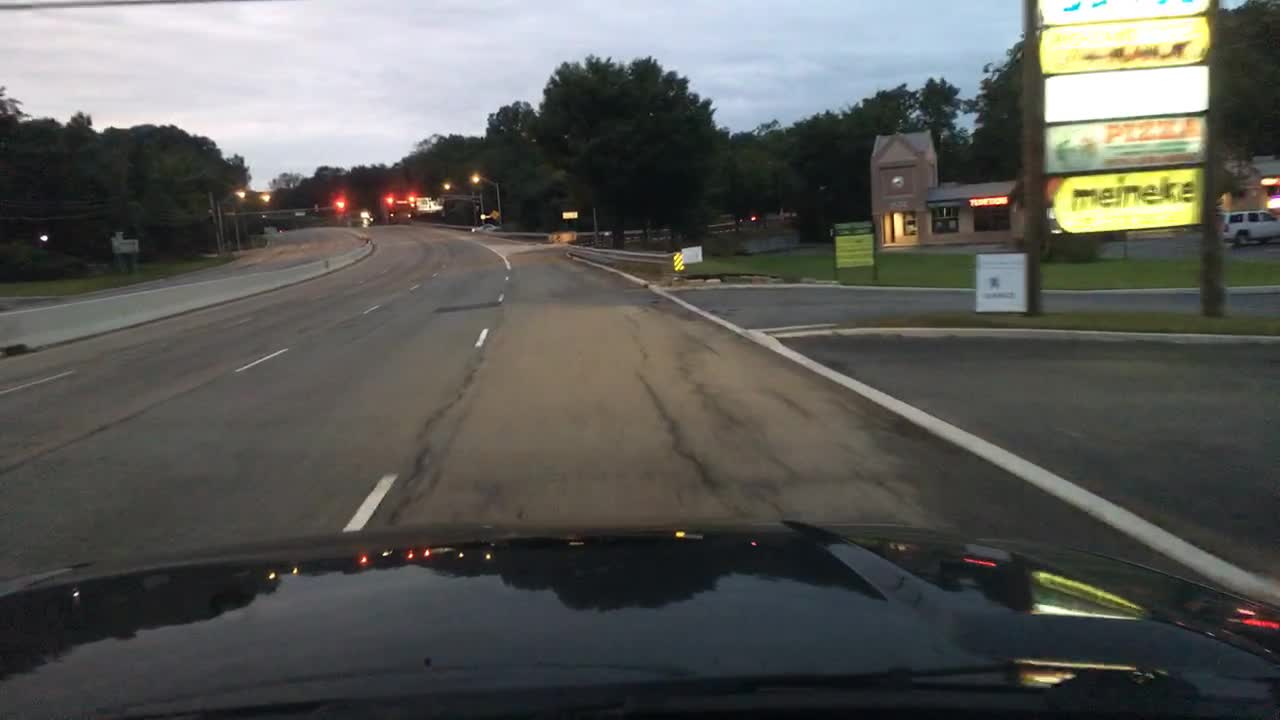car: (1220, 209, 1279, 250)
traffic light: (335, 195, 346, 212), (406, 192, 415, 205), (386, 194, 393, 207)
traffic sign: (416, 197, 432, 209), (562, 210, 580, 219), (487, 209, 500, 220)
